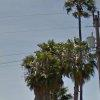Palm tree: (53, 4, 100, 89)
